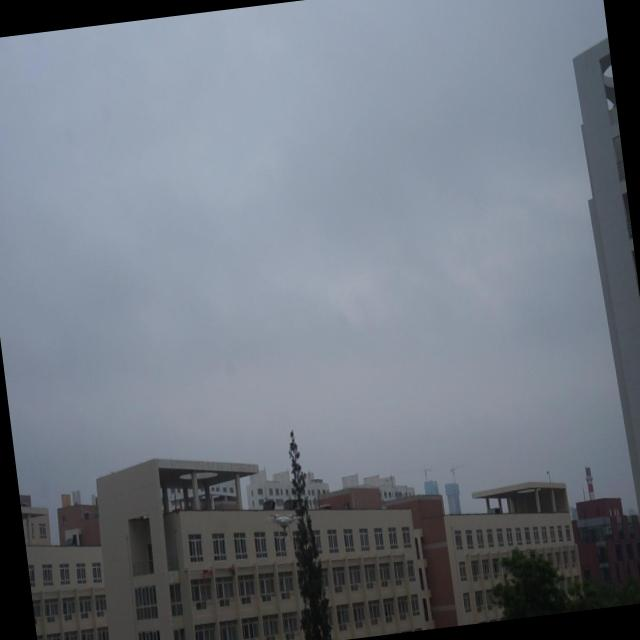drone: (265, 504, 302, 539)
